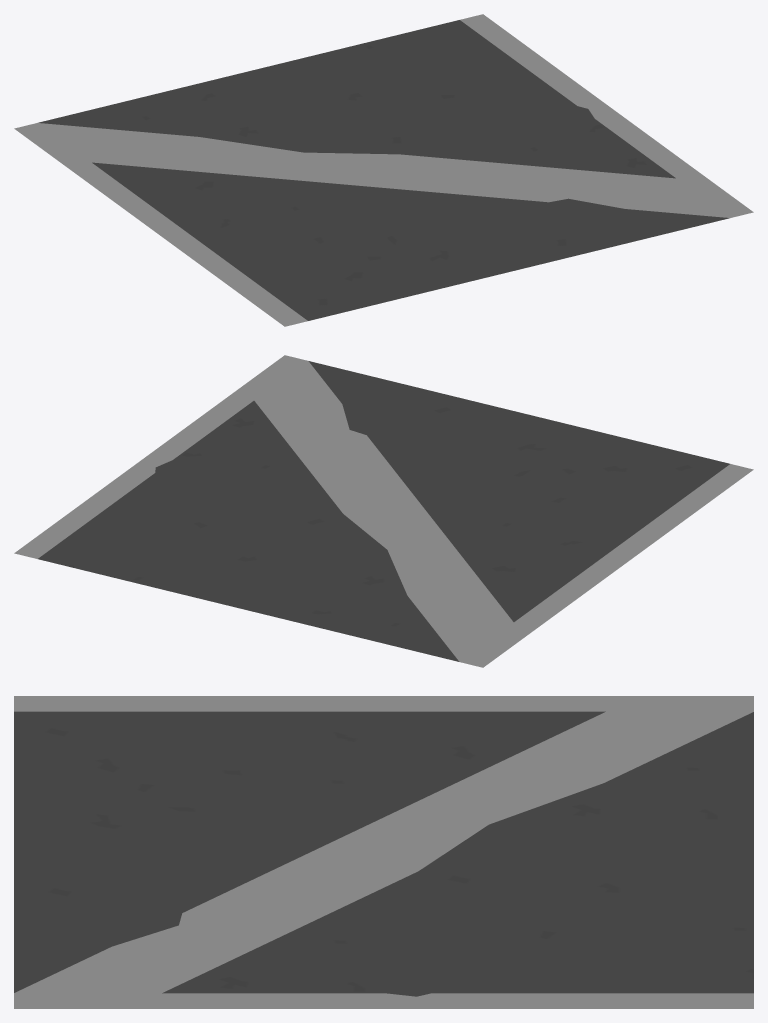
The model's file is SM_Env_Road_Median_01.fbx.
3 views of the same model, one above another, from view 1: azimuth 30°, elevation 25°; view 2: azimuth 150°, elevation 25°; view 3: azimuth 270°, elevation 25° (orthographic). The views are drawn at different scales.
Visible parts, largest first — view 1: SM_Env_Road_Median_01; view 2: SM_Env_Road_Median_01; view 3: SM_Env_Road_Median_01.
Part boxes in pixels (left/top/right/bottom): SM_Env_Road_Median_01: left=14, top=14, right=753, bottom=326; SM_Env_Road_Median_01: left=14, top=355, right=753, bottom=667; SM_Env_Road_Median_01: left=14, top=696, right=753, bottom=1008.
Bounding box in the file's own units: 500 × 0 × 500.
